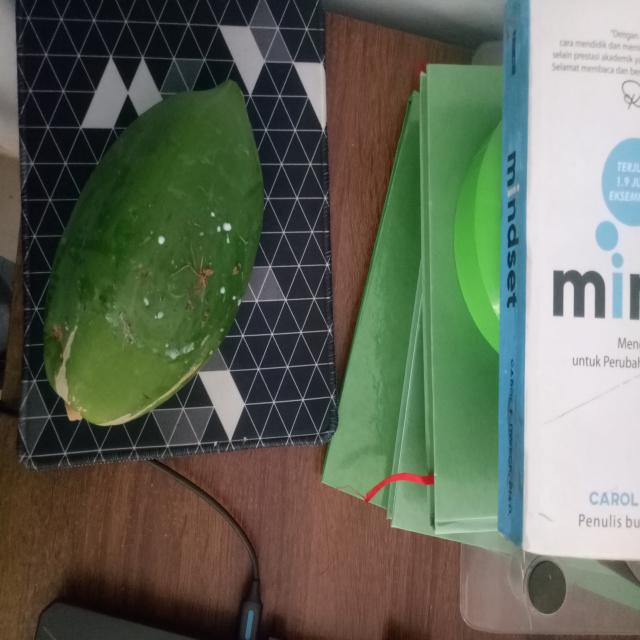Pepaya unrippen: (46, 67, 269, 421)
